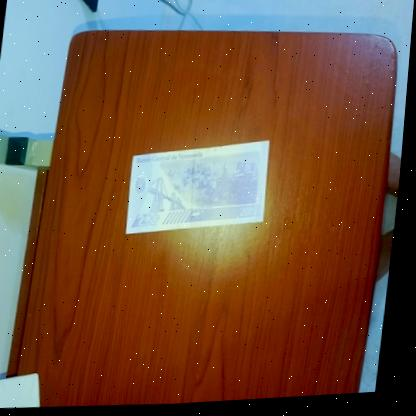two_hundred-back-vef: (127, 138, 276, 240)
